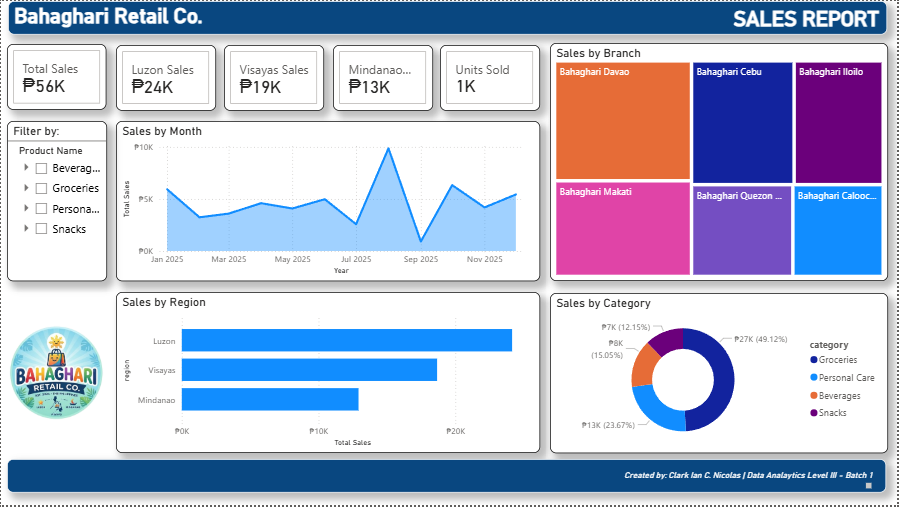

The page's visual inventory and layout, read from the dashboard file:
{"tool":"powerbi","page":{"name":"Page 1","canvas":[1280,720],"ordinal":0},"visuals":[{"type":"textbox","title":"Bahaghari Retail Co.","box":[10,0,1256.2,47.5],"z":0},{"type":"cardVisual","fields":{"Data":["InstitutionalAssessment_transactions.Total Sales"]},"box":[8.8,60.8,142.2,94.4],"z":1000},{"type":"cardVisual","fields":{"Data":["InstitutionalAssessment_transactions.Luzon Sales"]},"box":[163.8,62.5,142.5,93.8],"z":2000},{"type":"cardVisual","fields":{"Data":["InstitutionalAssessment_transactions.Visayas Sales"]},"box":[318.8,62.5,142.5,93.8],"z":3000},{"type":"cardVisual","fields":{"Data":["InstitutionalAssessment_transactions.Mindanao Sales"]},"box":[473.8,62.5,142.5,93.8],"z":4000},{"type":"cardVisual","fields":{"Data":["InstitutionalAssessment_transactions.Units Sold"]},"box":[627.5,62.5,142.5,93.8],"z":5000},{"type":"areaChart","title":"Sales by Month","fields":{"Y":["InstitutionalAssessment_transactions.Total Sales"],"Category":["InstitutionalAssessment_transactions.MonthStart.Variation.Date Hierarchy.Year","InstitutionalAssessment_transactions.MonthStart.Variation.Date Hierarchy.Quarter","InstitutionalAssessment_transactions.MonthStart.Variation.Date Hierarchy.Month","InstitutionalAssessment_transactions.MonthStart.Variation.Date Hierarchy.Day"]},"box":[163.8,171.2,606.2,228.8],"z":6000},{"type":"clusteredBarChart","title":"Sales by Region","fields":{"Y":["InstitutionalAssessment_transactions.Total Sales"],"Category":["InstitutionalAssessment_stores.region"]},"box":[8.8,416.2,761.2,228.8],"z":7000},{"type":"treemap","title":"Sales by Branch","fields":{"Group":["InstitutionalAssessment_stores.store_name"],"Values":["InstitutionalAssessment_transactions.Total Sales"]},"box":[783.8,60,482.5,340],"z":8000},{"type":"slicer","title":"Filter by:","fields":{"Values":["InstitutionalAssessment_products.category","InstitutionalAssessment_products.product_name"]},"box":[8.8,171.2,142.5,228.8],"z":9000},{"type":"donutChart","title":"Sales by Category","fields":{"Category":["InstitutionalAssessment_products.category"],"Y":["InstitutionalAssessment_transactions.Total Sales"]},"box":[783.8,416.5,483,229],"z":9001},{"type":"textbox","title":"SALES REPORT","box":[1041.2,0,225,47.5],"z":9002},{"type":"textbox","title":"Created by: Clark Ian C. Nicolas | Data Analaytics Level III - Batch 1","box":[8.8,653.8,1256.2,47.5],"z":9003}]}

Visuals, with their boxes in screenshot pixels (x1, y1, x2, y2), scaled from the page's 1280x720 canvas onto the 899x507 screenshot:
"Bahaghari Retail Co." textbox: (left=7, top=0, right=889, bottom=33)
cardVisual - InstitutionalAssessment_transactions.Total Sales: (left=6, top=43, right=106, bottom=109)
cardVisual - InstitutionalAssessment_transactions.Luzon Sales: (left=115, top=44, right=215, bottom=110)
cardVisual - InstitutionalAssessment_transactions.Visayas Sales: (left=224, top=44, right=324, bottom=110)
cardVisual - InstitutionalAssessment_transactions.Mindanao Sales: (left=333, top=44, right=433, bottom=110)
cardVisual - InstitutionalAssessment_transactions.Units Sold: (left=441, top=44, right=541, bottom=110)
"Sales by Month" areaChart: (left=115, top=121, right=541, bottom=282)
"Sales by Region" clusteredBarChart: (left=6, top=293, right=541, bottom=454)
"Sales by Branch" treemap: (left=550, top=42, right=889, bottom=282)
"Filter by:" slicer: (left=6, top=121, right=106, bottom=282)
"Sales by Category" donutChart: (left=550, top=293, right=890, bottom=455)
"SALES REPORT" textbox: (left=731, top=0, right=889, bottom=33)
"Created by: Clark Ian C. Nicolas | Data Analaytics Level III - Batch 1" textbox: (left=6, top=460, right=888, bottom=494)
